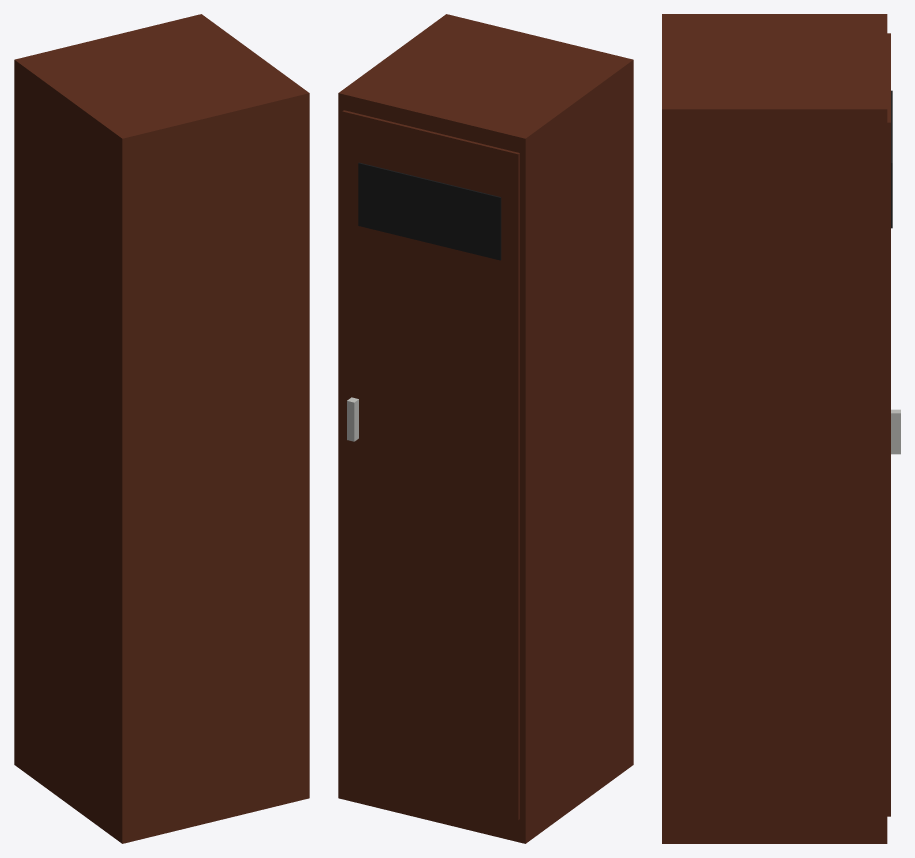
The model's file is parametric-locker-2nd.glb.
3 renders of one model, left to right at view 1: azimuth 30°, elevation 25°; view 2: azimuth 150°, elevation 25°; view 3: azimuth 270°, elevation 25°, orthographic. The views are drawn at different scales.
Visible parts, largest first — view 1: parametric-locker-2nd; view 2: parametric-locker-2nd; view 3: parametric-locker-2nd.
Boxes of the visible parts, <box> form: parametric-locker-2nd: <box>14,14,309,843</box>; parametric-locker-2nd: <box>338,14,633,843</box>; parametric-locker-2nd: <box>662,14,900,843</box>.
Size of the model in its own units: 0.5 by 1.8 by 0.53.
